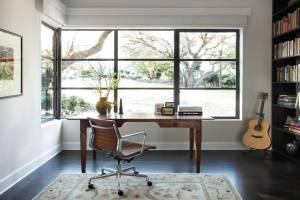window: (38, 18, 241, 125)
